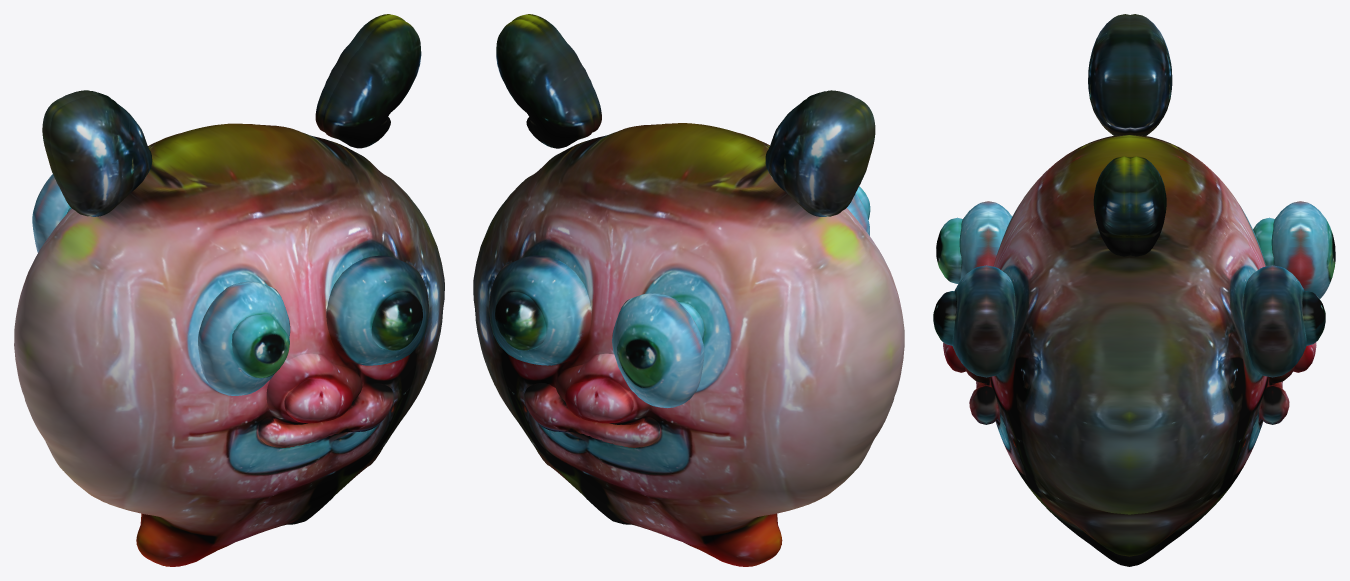
The model's file is mm_project.glb.
3 renders of one model, left to right at view 1: azimuth 30°, elevation 25°; view 2: azimuth 150°, elevation 25°; view 3: azimuth 270°, elevation 25°, orthographic. The views are drawn at different scales.
Size of the model in its own units: 6.03 by 6.98 by 5.49.
1 material, 1 textured.
